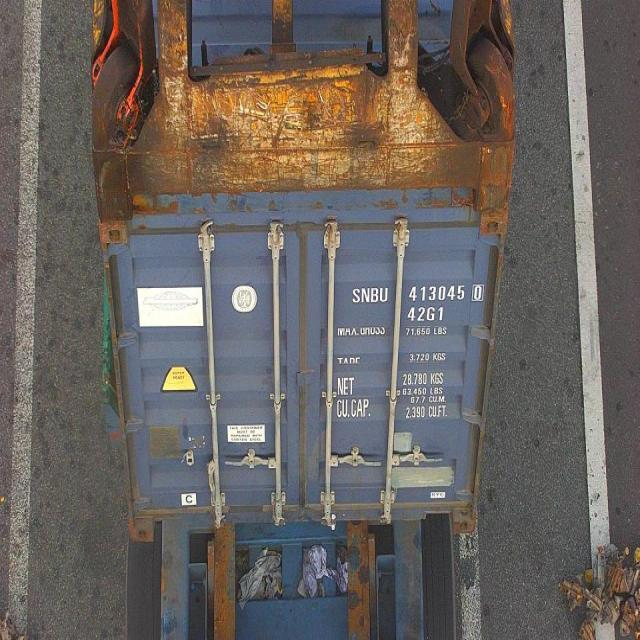ISO: (408, 306, 446, 319)
container_number: (349, 280, 487, 310)
